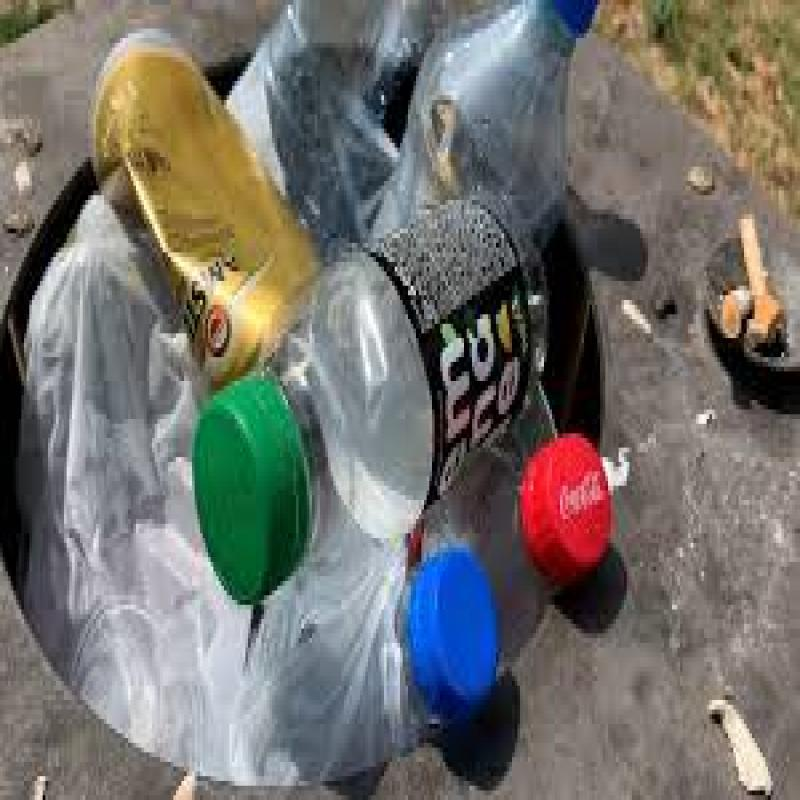botella: (190, 184, 557, 581), (368, 0, 602, 244), (417, 339, 613, 611), (228, 0, 438, 224)
